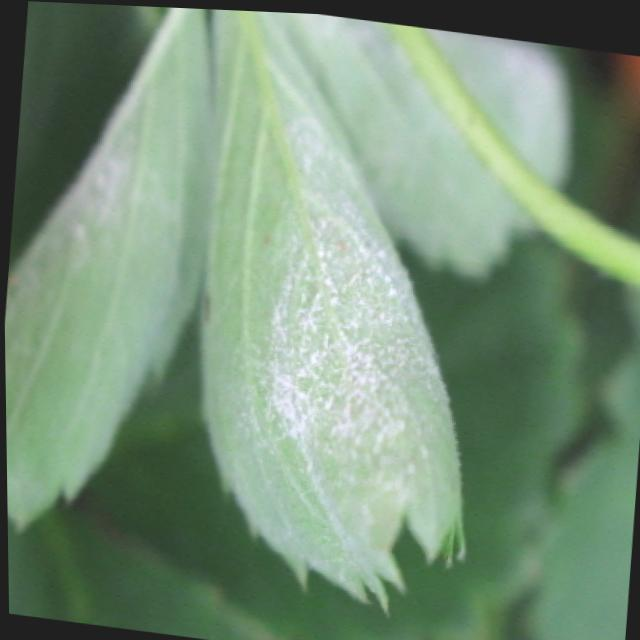Powdery Mildew Leaf: (195, 7, 463, 616), (4, 6, 210, 529), (274, 10, 577, 277)
